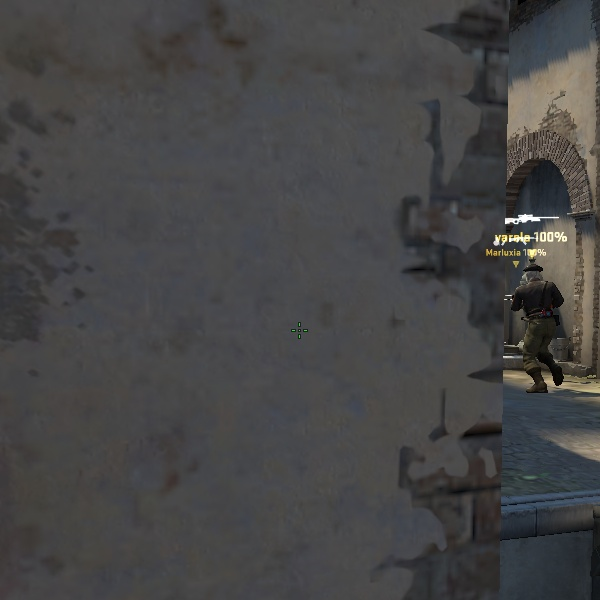t_body: (493, 260, 575, 392)
t_head: (517, 257, 548, 289)
